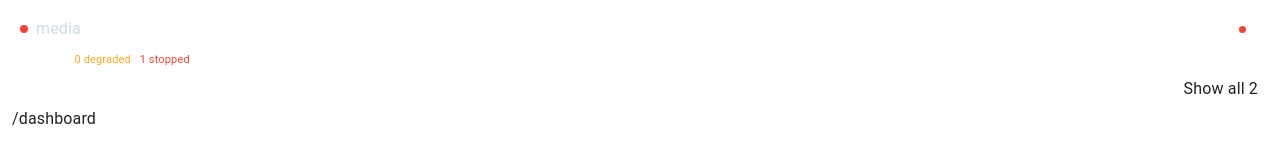
Test: ServicesPanel › navigates to the stack's detail view when its name is clicked
Click the button "media".
click(58, 28)  # box [36, 19, 81, 38]
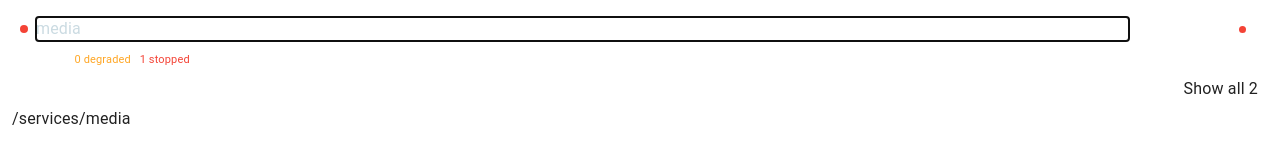
Now the text with test id "location" reads "/services/media", box [12, 108, 131, 128]
